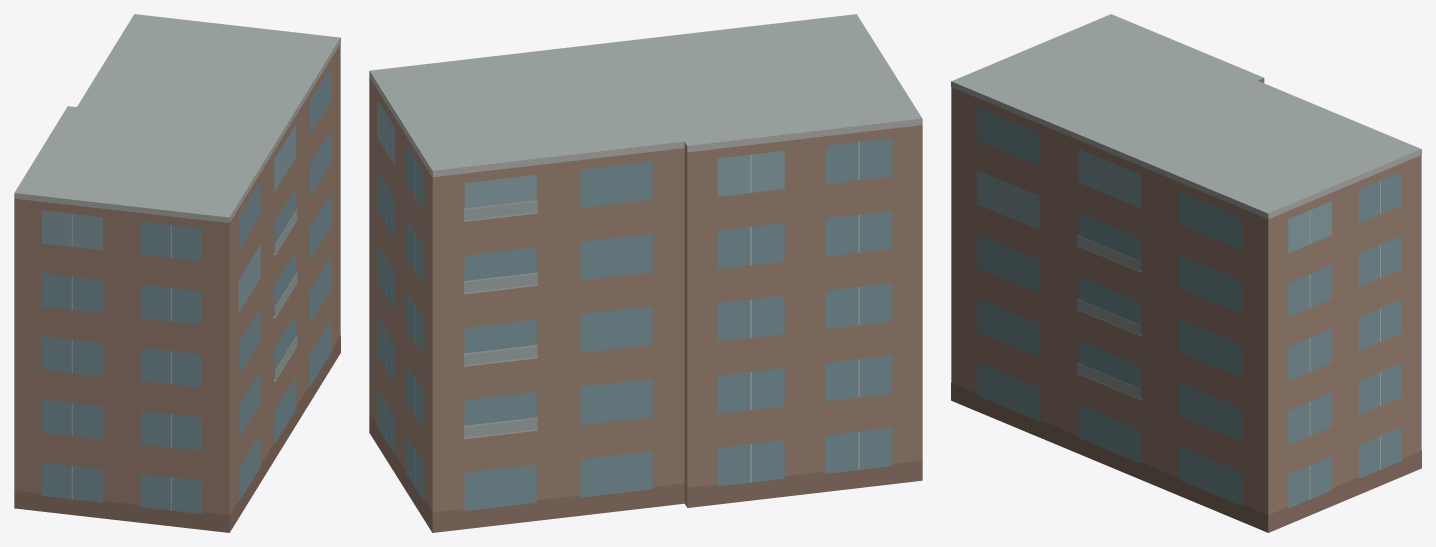
The model's file is survey-upis-32509933.glb.
3 renders of one model, left to right at view 1: azimuth 30°, elevation 25°; view 2: azimuth 150°, elevation 25°; view 3: azimuth 270°, elevation 25°, orthographic. The views are drawn at different scales.
Visible parts, largest first — view 1: survey-upis-32509933.tmp; view 2: survey-upis-32509933.tmp; view 3: survey-upis-32509933.tmp.
Boxes of the visible parts, box(x1,y1,x2,y2) form: survey-upis-32509933.tmp: box(14, 14, 340, 532); survey-upis-32509933.tmp: box(369, 14, 922, 532); survey-upis-32509933.tmp: box(951, 14, 1421, 532).
Size of the model in its own units: 18.38 by 13.7 by 18.31.
